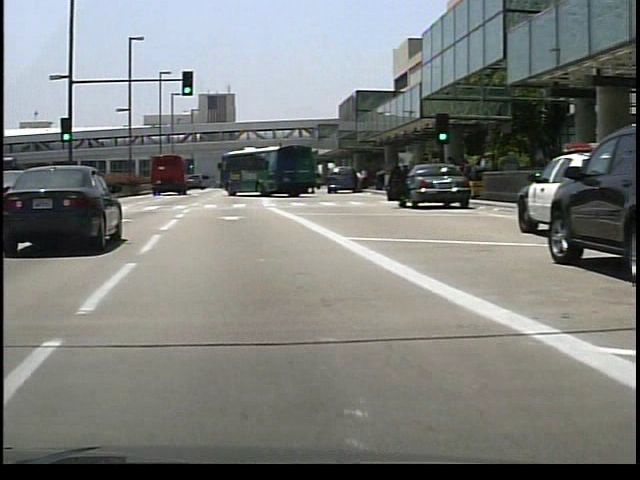person: (349, 168, 361, 193)
